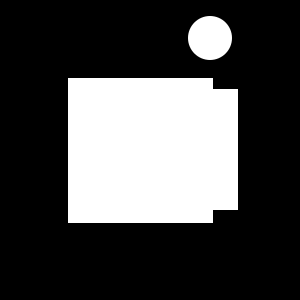circle: (68, 78, 213, 223), (117, 89, 238, 210)
rectangle: (188, 16, 232, 60)
